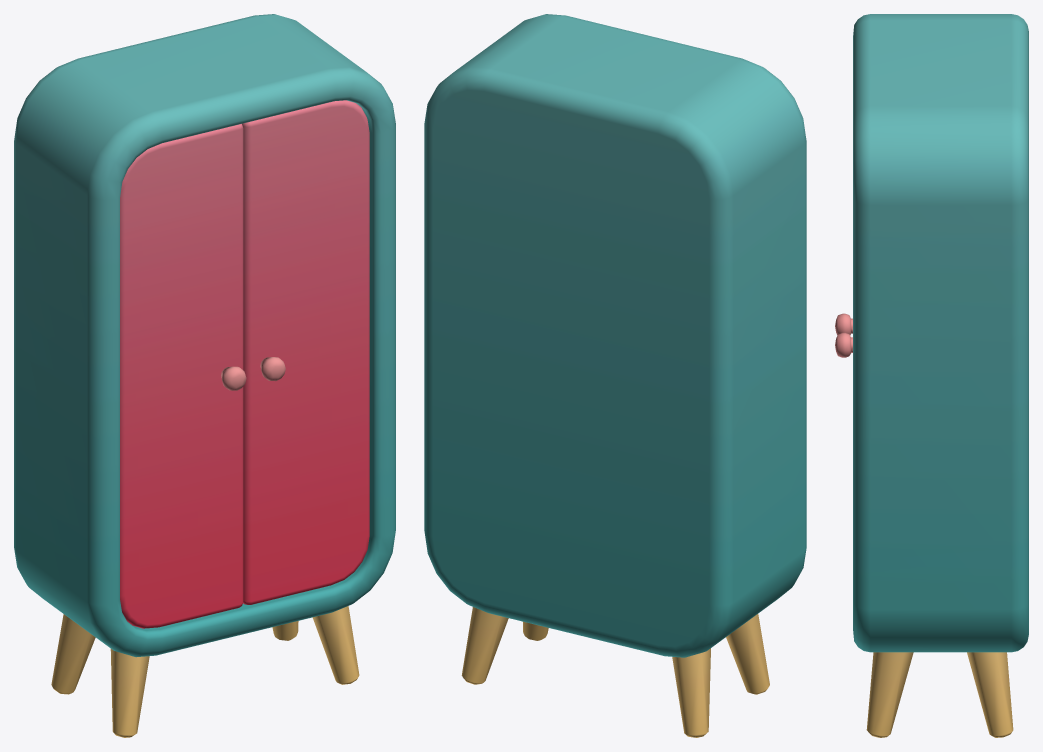
Rendered from Closet_02.glb.
The picture shows the model from 3 angles, left to right: view 1: azimuth 30°, elevation 25°; view 2: azimuth 150°, elevation 25°; view 3: azimuth 270°, elevation 25°; orthographic projection.
Visible parts, largest first — view 1: Closet_02 (×2); view 2: Closet_02; view 3: Closet_02 (×2).
Boxes of the visible parts, <box> form: Closet_02 (×2): <box>14,14,395,737</box>; Closet_02: <box>424,14,806,737</box>; Closet_02 (×2): <box>835,14,1028,737</box>.
Bounding box in the file's own units: 0.8001 × 1.55 × 0.4404.
1 material, 1 textured.
